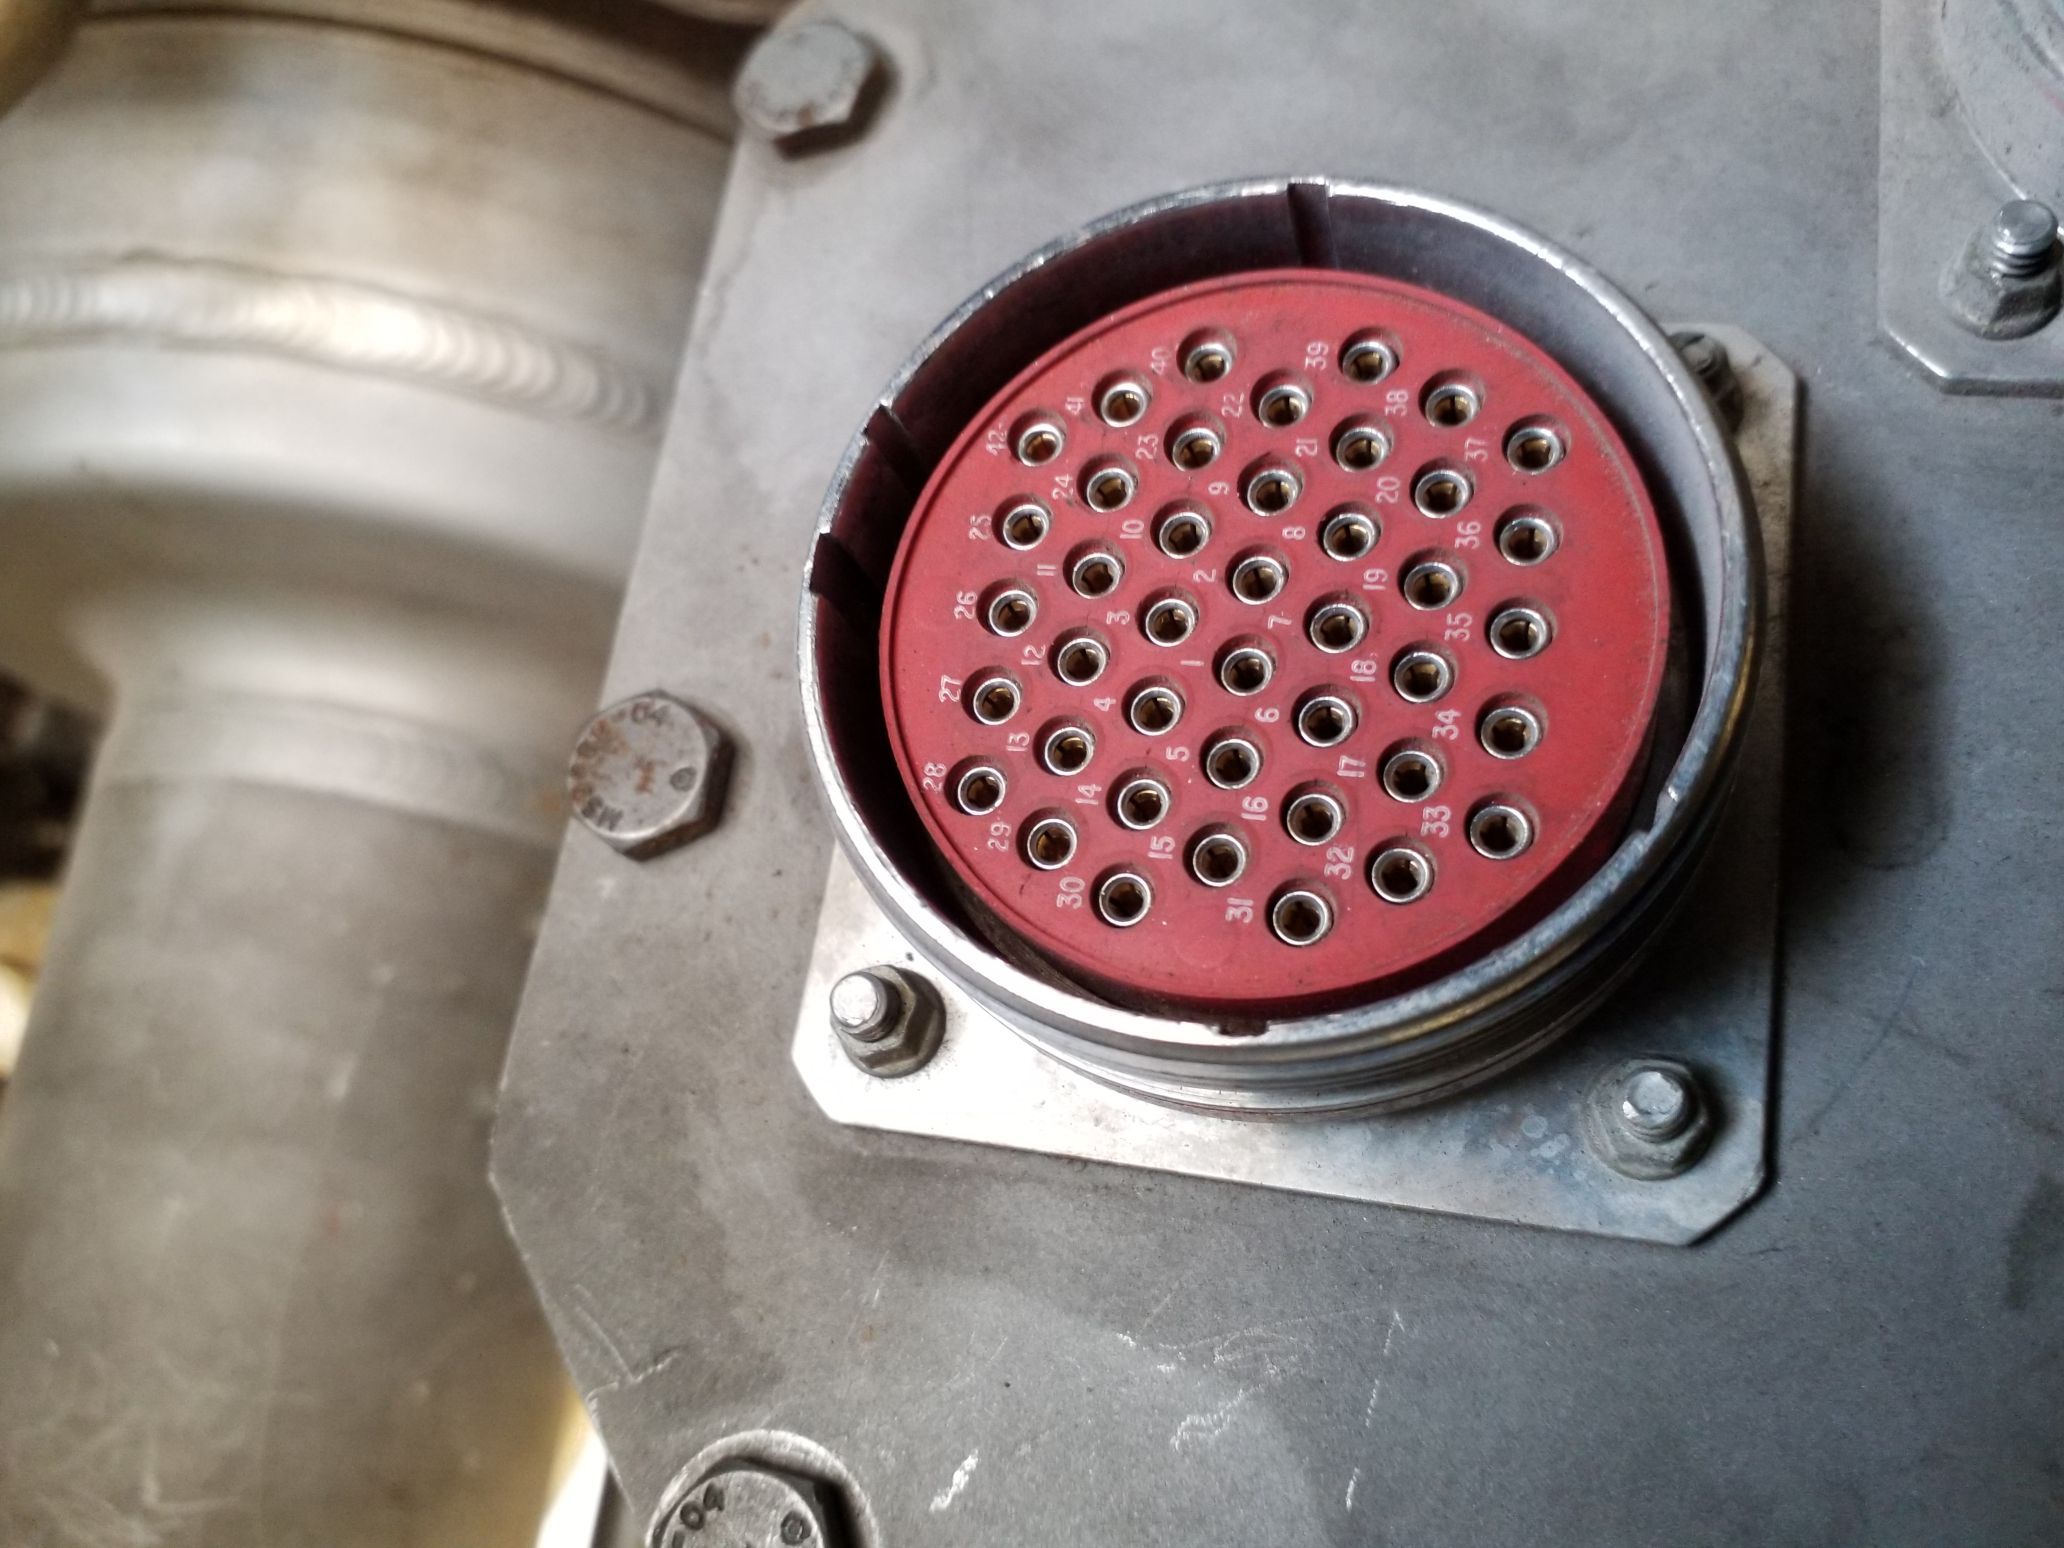inletnumbers: (798, 135, 1776, 1099)
